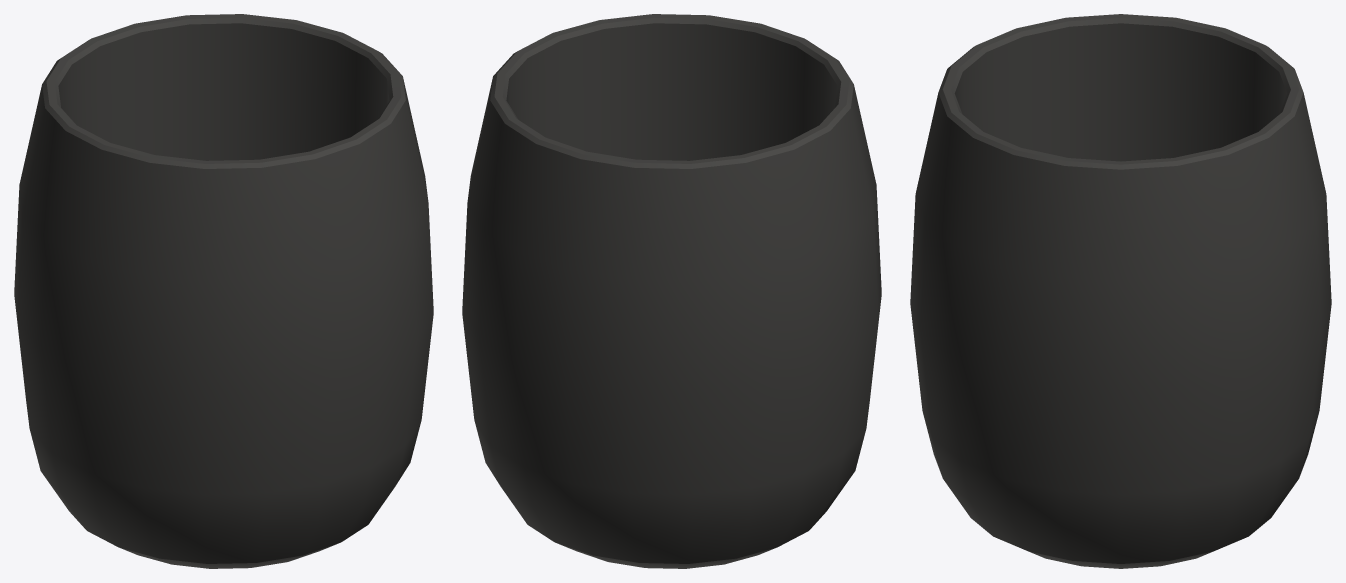
Rendered from Cuenco.fbx.
The picture shows the model from 3 angles, left to right: view 1: azimuth 30°, elevation 25°; view 2: azimuth 150°, elevation 25°; view 3: azimuth 270°, elevation 25°; orthographic projection.
Parts seen in each view (by area): view 1: Cuenco; view 2: Cuenco; view 3: Cuenco.
Part boxes in pixels (x1,y1,x2,y2): Cuenco: (14,14,433,568); Cuenco: (462,14,881,568); Cuenco: (910,14,1331,568).
Bounding box in the file's own units: 76.29 × 85.1 × 76.29.
1 material, 1 textured.
